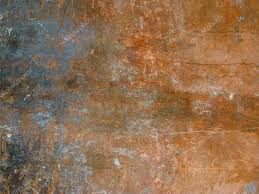rust: (52, 3, 259, 192)
